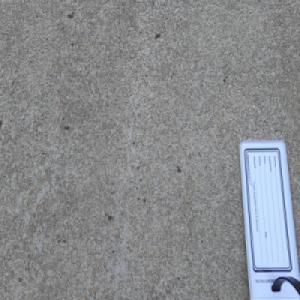LuggageTag: (237, 137, 300, 300)
